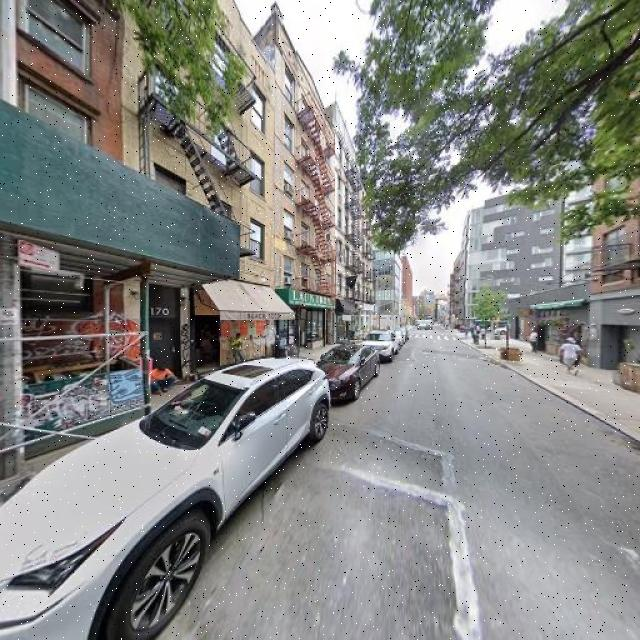Building: (1, 1, 129, 432), (133, 1, 269, 398), (272, 1, 333, 360), (592, 1, 640, 374)
